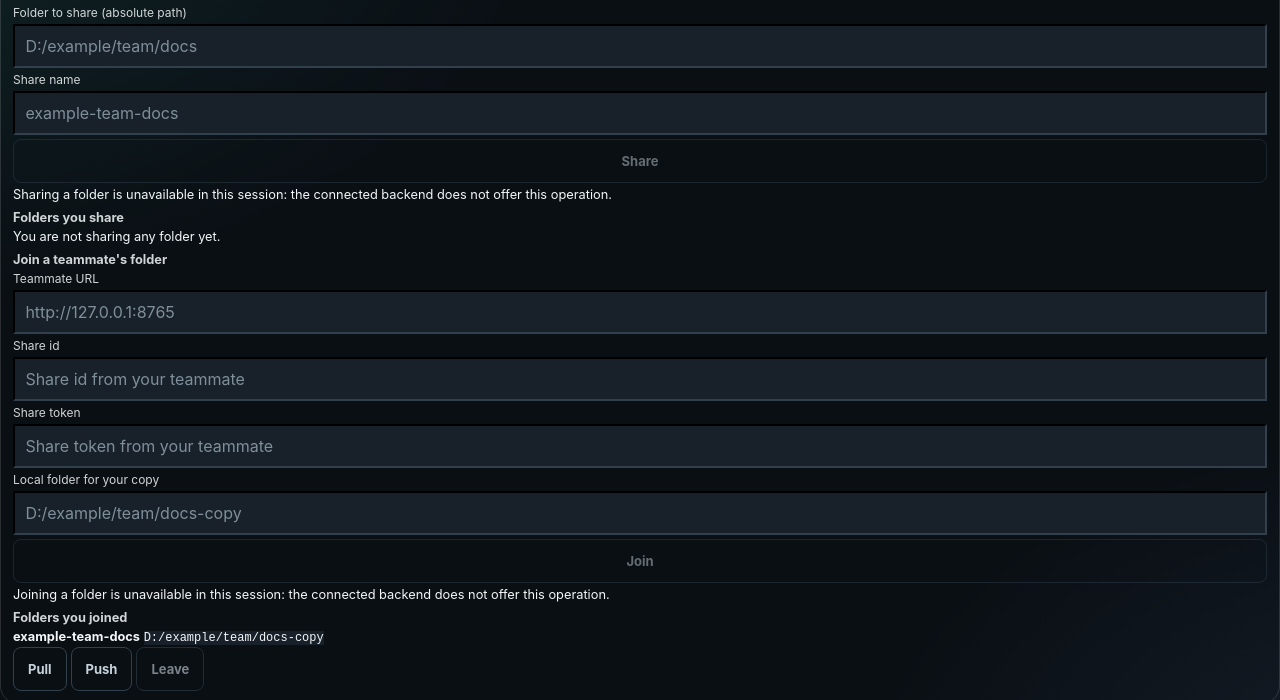
Test case: TeamFoldersPanel › reports pull counts and maps a push failure to a safe message
The width and height of the screenshot is (1280, 700).
(page scrolled)
Expected: the text "D:/example/team/docs-copy" is shown, [144,631,324,645]
Click the button "Pull". click: {"x": 40, "y": 669}
box: [13,647,67,691]
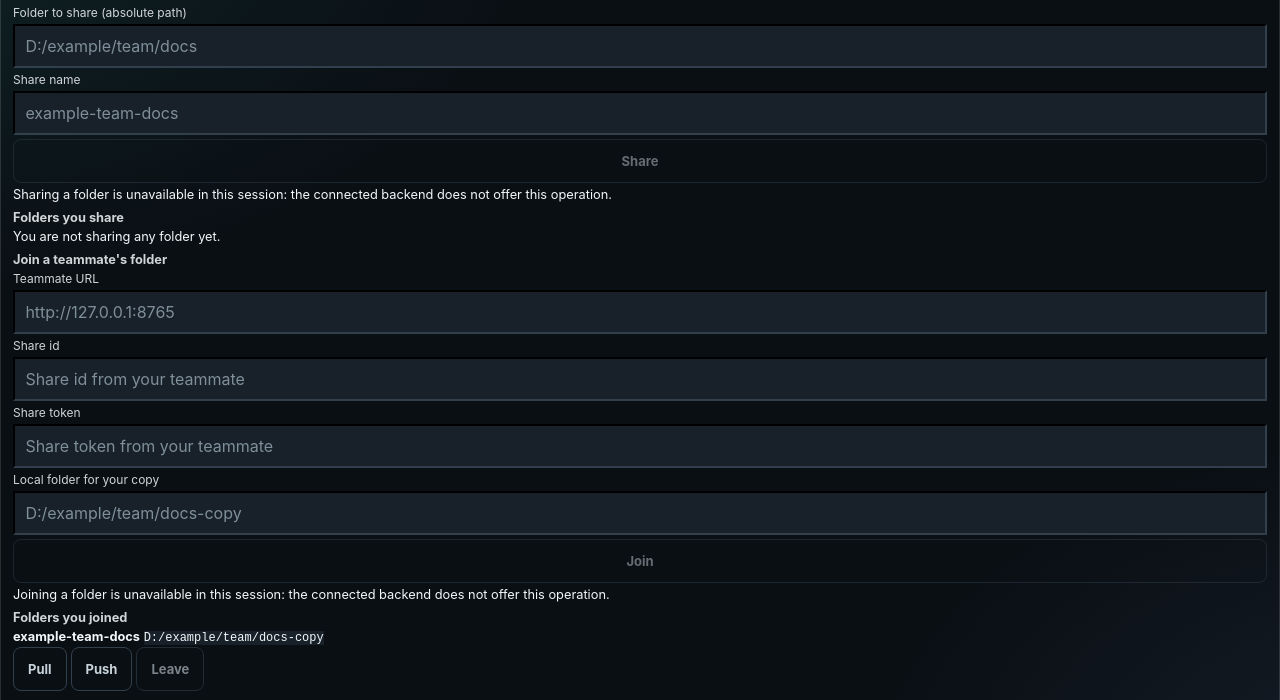
Click the button "Push". click: {"x": 102, "y": 669}
box: [71,647,132,691]
(page scrolled)
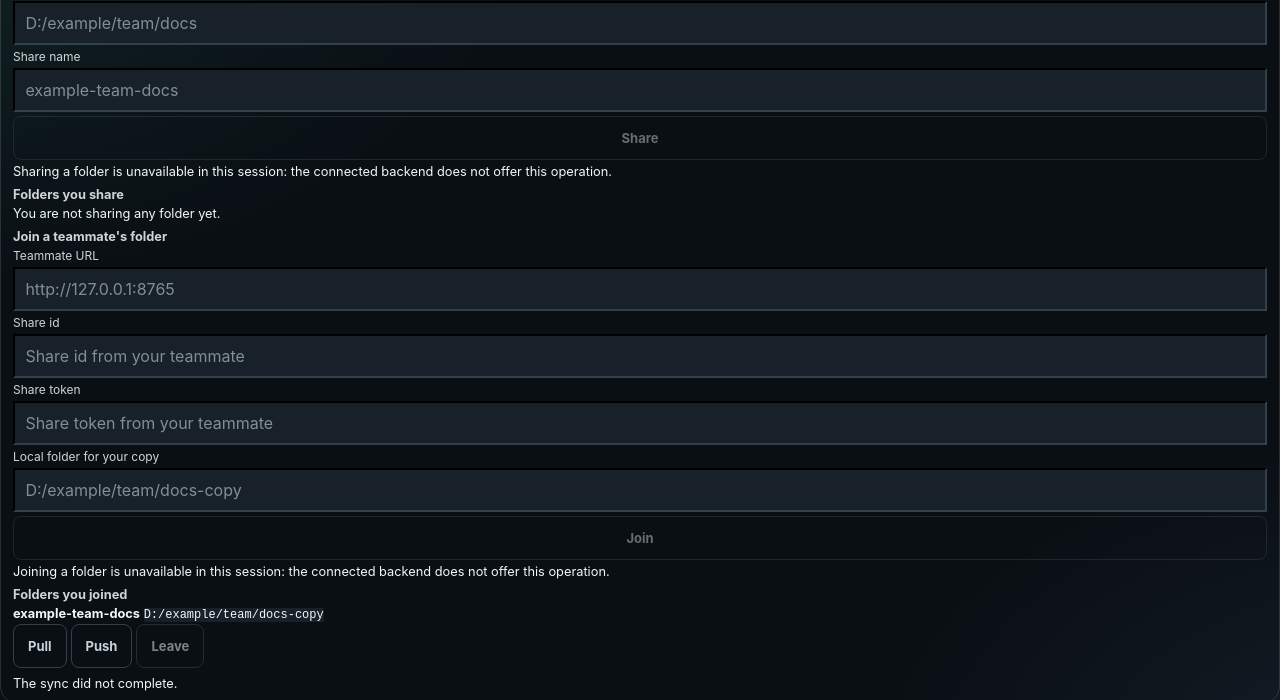
Expected: the text "The sync did not complete." is shown, [13,676,178,691]
